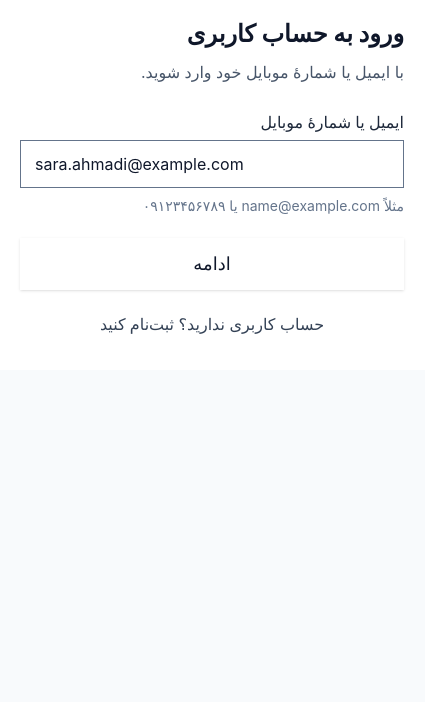
waits after a 429 › a 429 on a verify waits retry_after before «تأیید و ورود», and keeps the code
The image size is (425, 702).
Click the button "ادامه" at (212, 264), box [20,238,404,290]
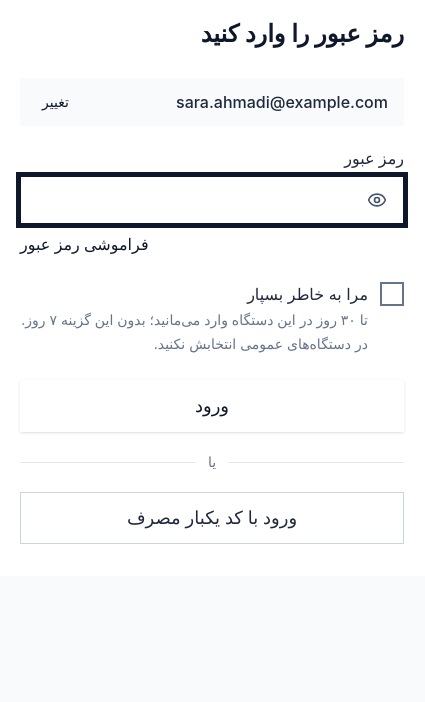
Click the button "ورود با کد یکبار مصرف" at (212, 518), box [20,492,404,544]
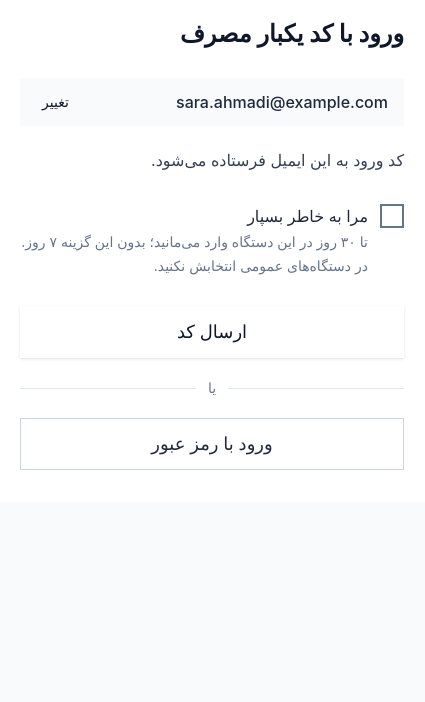
Click the button "ارسال کد" at (212, 332), box [20,306,404,358]
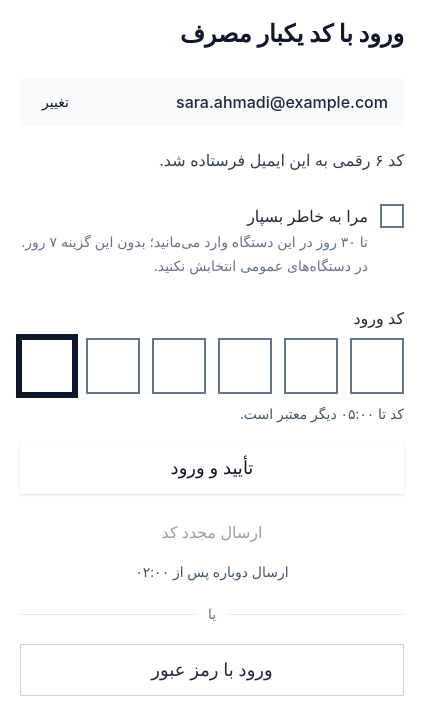
Type keys "123456"
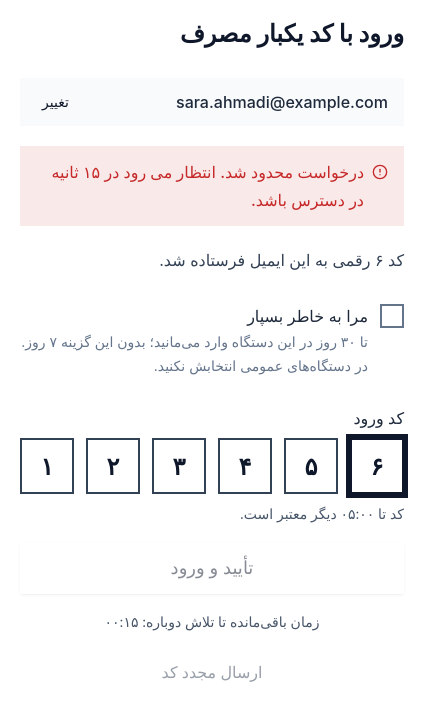
Expected: the message shows "در ۱۵ ثانیه", [52,162,364,210]
Click the button "تأیید و ورود" at (212, 568), box [20,542,404,594]
Wait 15000 ms
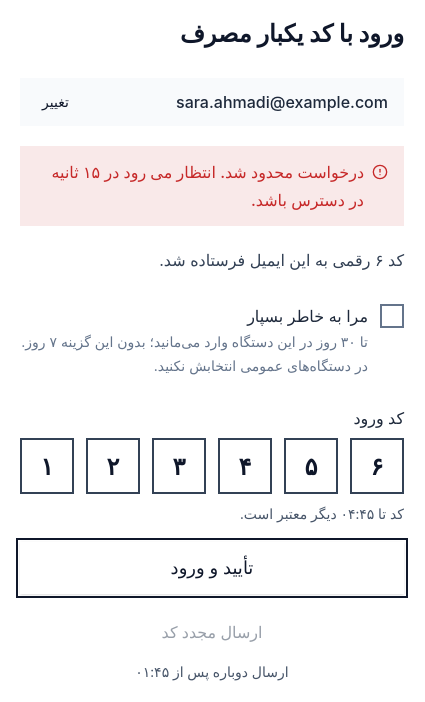
Expected: the button "تأیید و ورود" does not have attribute aria-disabled
Click the button "تأیید و ورود" at (212, 568), box [20,542,404,594]
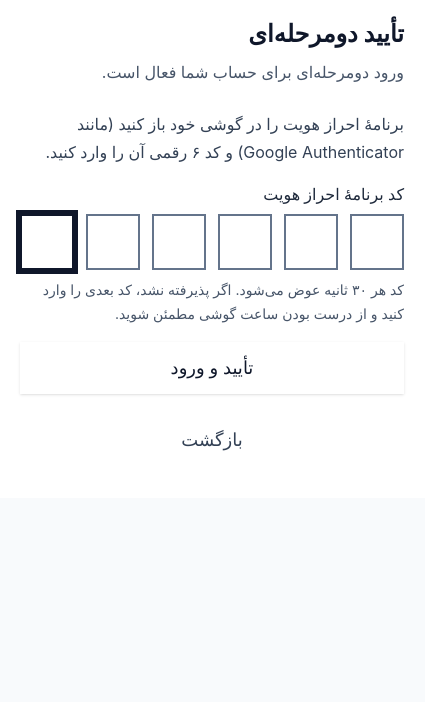
Expected: the heading "تأیید دومرحله‌ای" is shown, [248,19,404,48]
